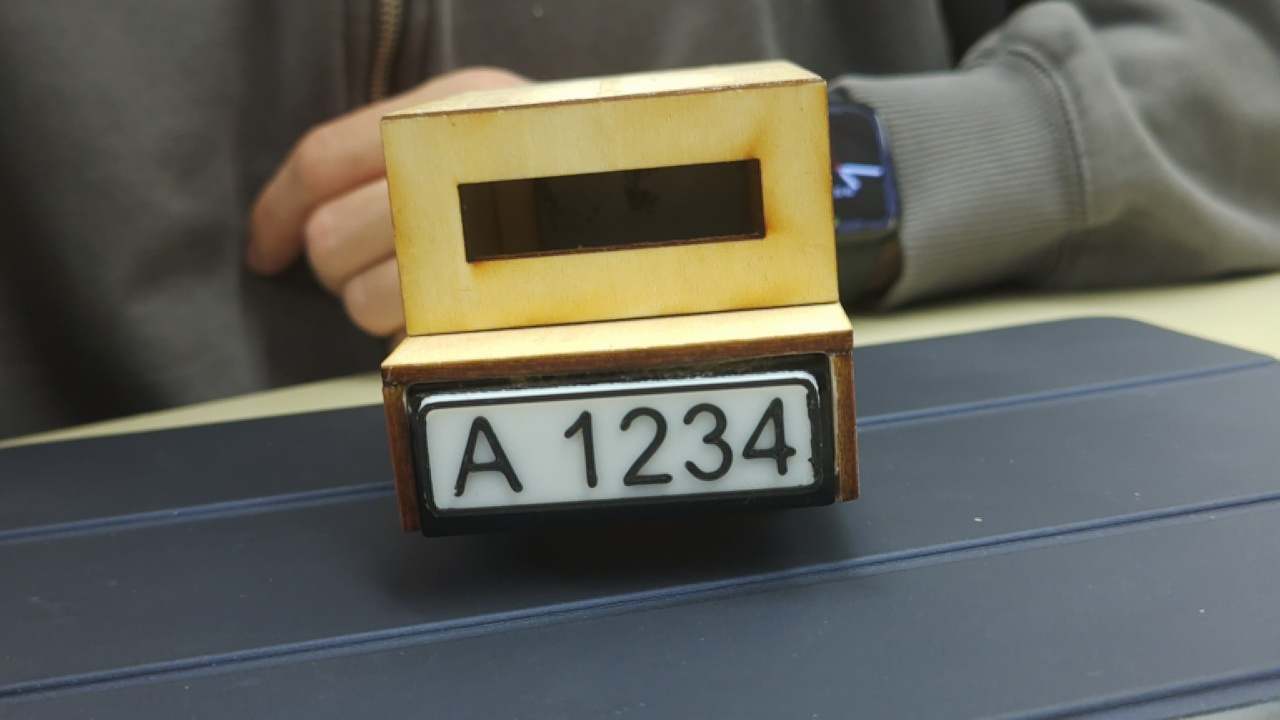license_plate: (396, 357, 845, 542)
